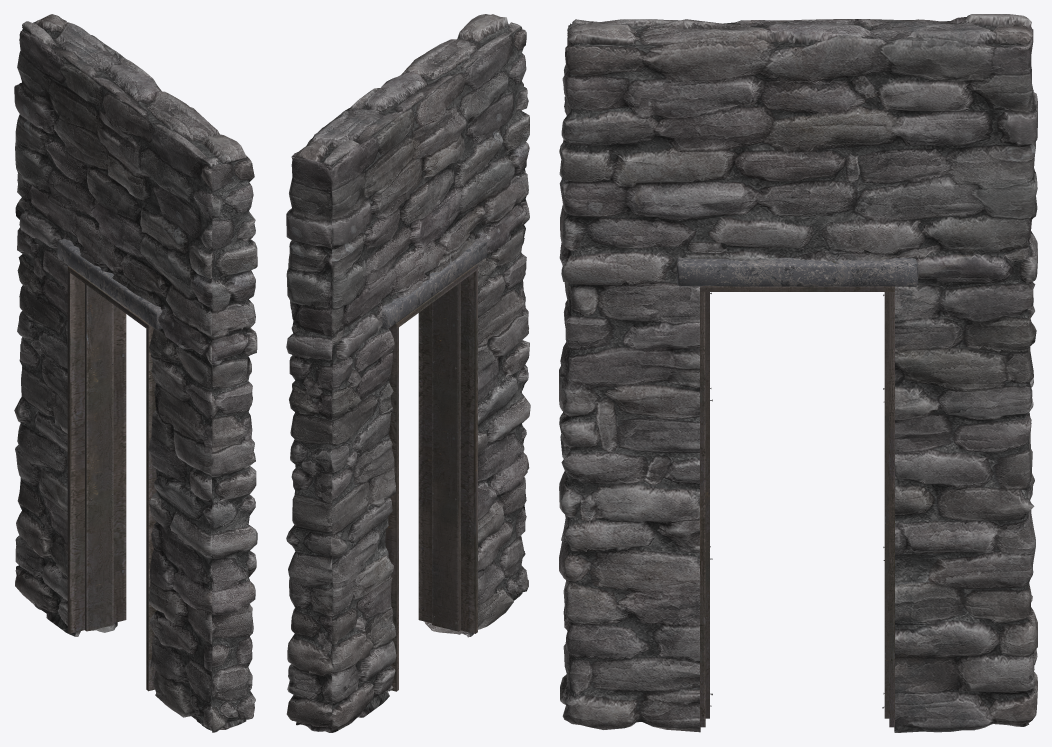
Rendered from SM_MWall200DoorDS.FBX.
3 views of the same model, side by side, from view 1: azimuth 30°, elevation 25°; view 2: azimuth 150°, elevation 25°; view 3: azimuth 270°, elevation 25° (orthographic). The views are drawn at different scales.
Visible parts, largest first — view 1: SM_MWall200DoorDS_LOD0; view 2: SM_MWall200DoorDS_LOD0; view 3: SM_MWall200DoorDS_LOD0.
Part boxes in pixels (x1=…): SM_MWall200DoorDS_LOD0: x1=14, y1=14, x2=257, y2=732; SM_MWall200DoorDS_LOD0: x1=286, y1=14, x2=530, y2=732; SM_MWall200DoorDS_LOD0: x1=559, y1=14, x2=1037, y2=732.
Size of what is drawn, in the model's own units: 39.7 by 346 by 215.
